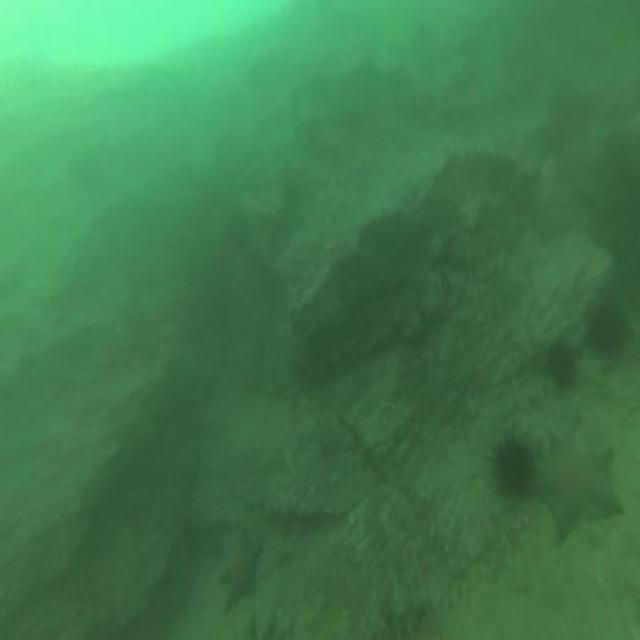echinus: (492, 441, 530, 498), (544, 337, 573, 387)
starfish: (538, 436, 623, 544), (216, 534, 260, 615)
